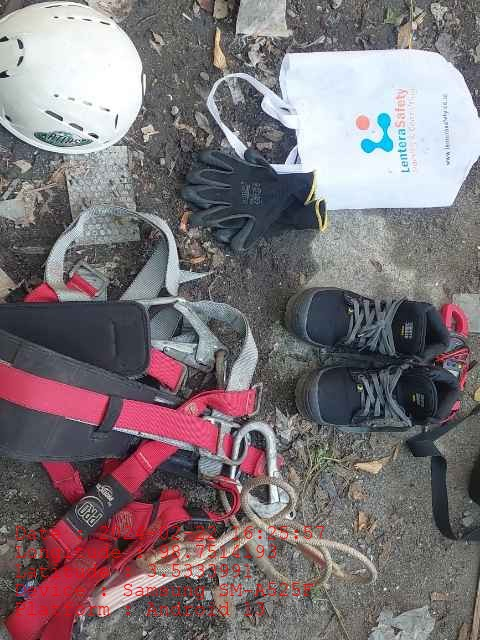SARUNG TANGAN: (187, 145, 326, 250)
SEPATU: (286, 287, 459, 438)
